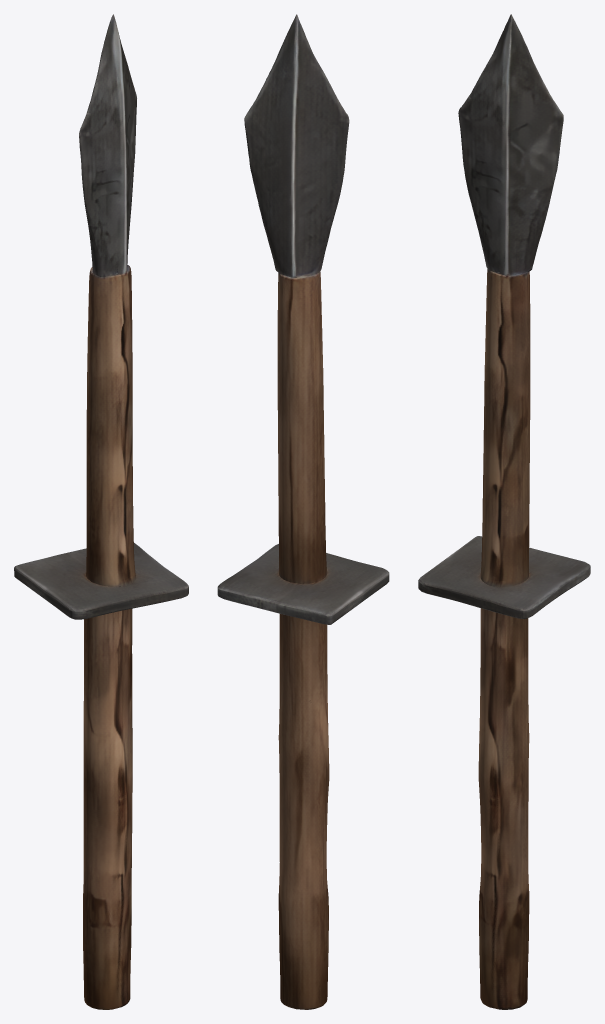
Rendered from source.glb.
3 renders of one model, left to right at view 1: azimuth 30°, elevation 25°; view 2: azimuth 150°, elevation 25°; view 3: azimuth 330°, elevation 25°, orthographic.
Visible parts, largest first — view 1: model; view 2: model; view 3: model.
Part boxes in pixels (x1,y1,x2,y2): model: [14, 14, 188, 1009]; model: [217, 14, 389, 1009]; model: [418, 14, 590, 1009].
Size of the model in its own units: 0.236 by 1.9 by 0.2302.
1 material, 1 textured.
